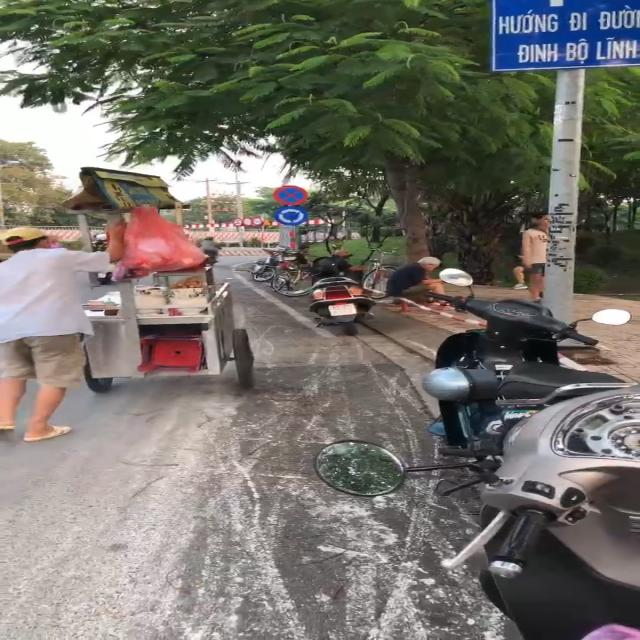Bien bao cam dung xe va do xe: (271, 183, 307, 207)
Bien bao noi giao nhau chay theo vong xuyen: (271, 207, 315, 228)
